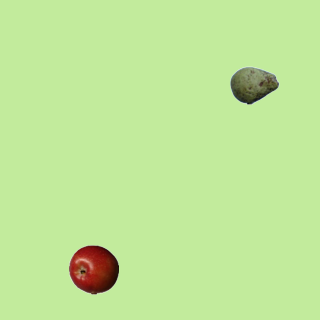Apple Braeburn: (68, 244, 118, 294)
Pear Stone: (229, 60, 279, 110)
